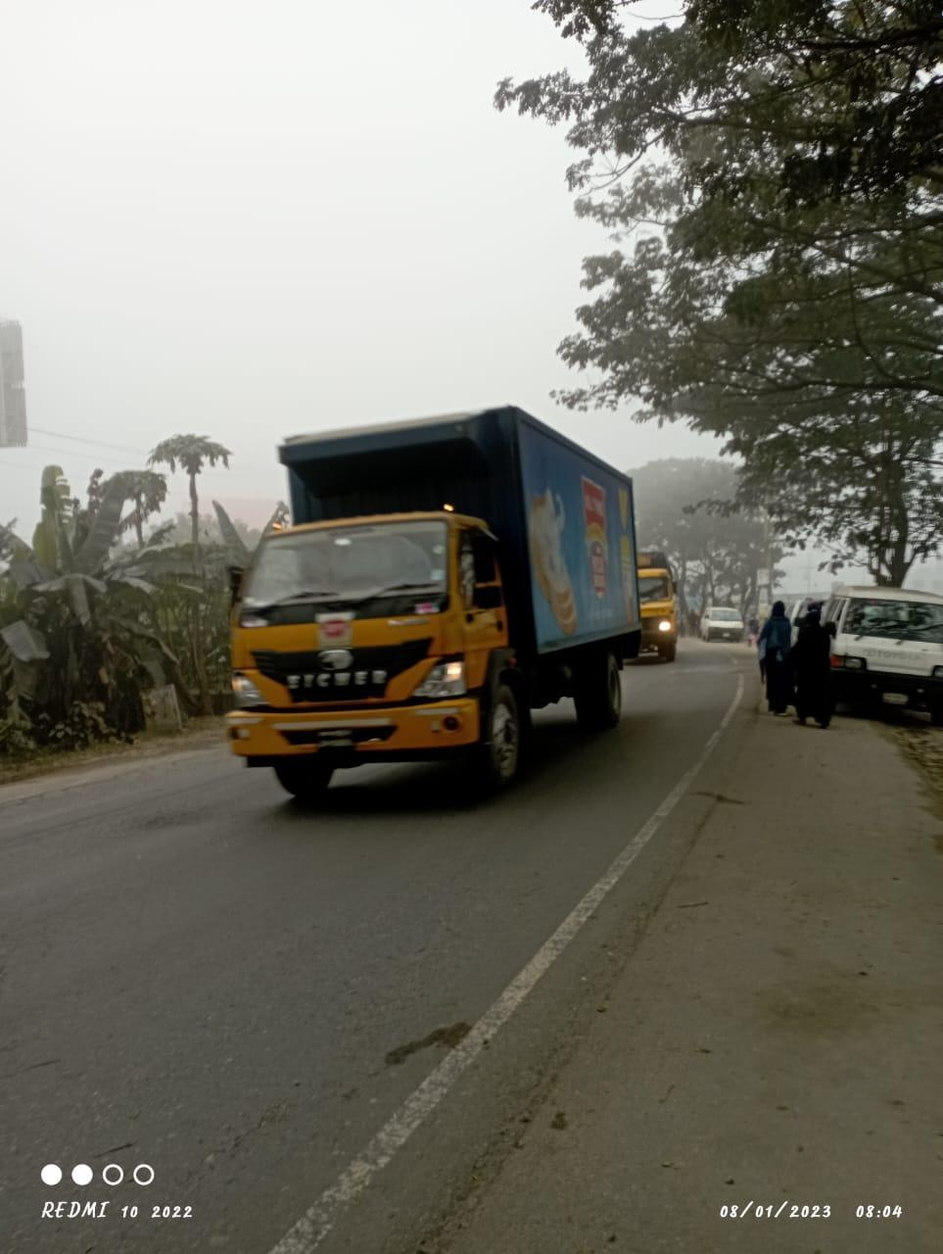Car: (828, 583, 943, 726), (695, 601, 749, 643)
Truck: (219, 397, 643, 803), (636, 544, 686, 663)
